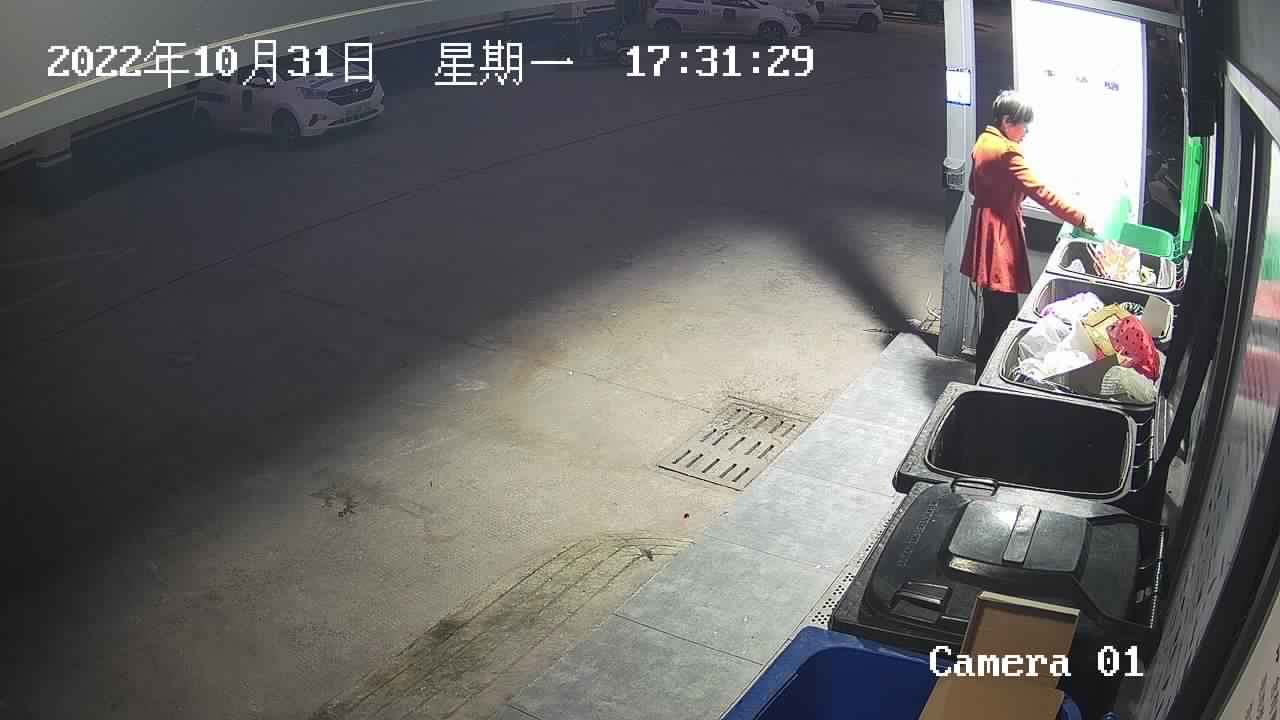worker: (955, 88, 1097, 387)
